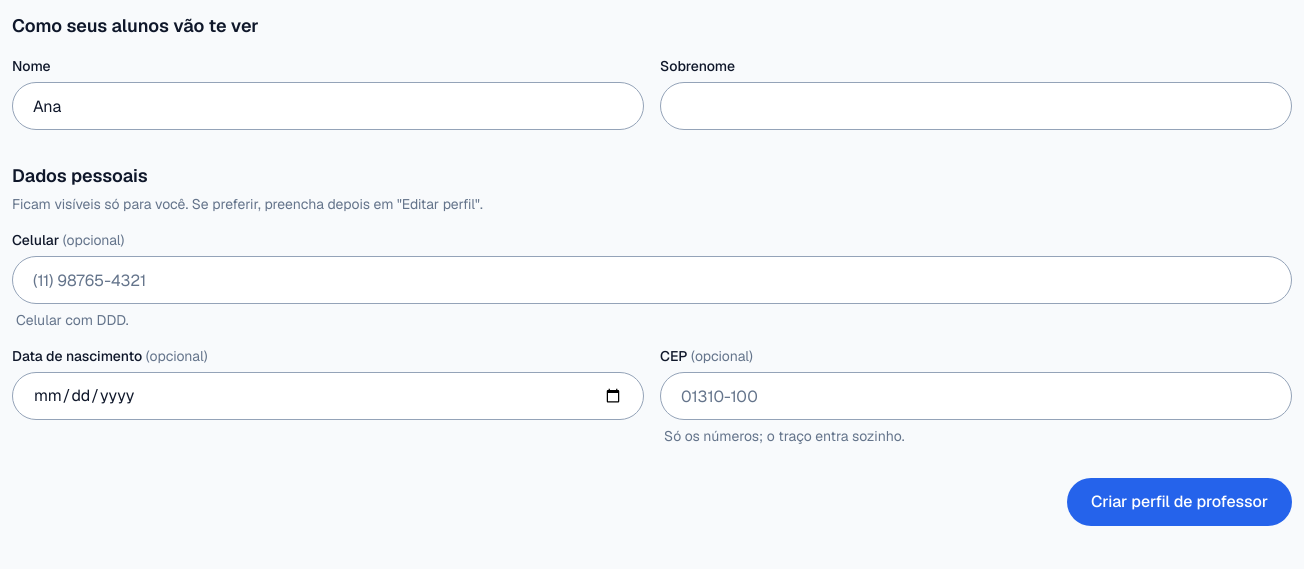
Test: ProfileForm › validates before submitting and focuses the first invalid field
Click the button "Criar perfil de professor" at (1180, 502), box [1067,478,1292,526]
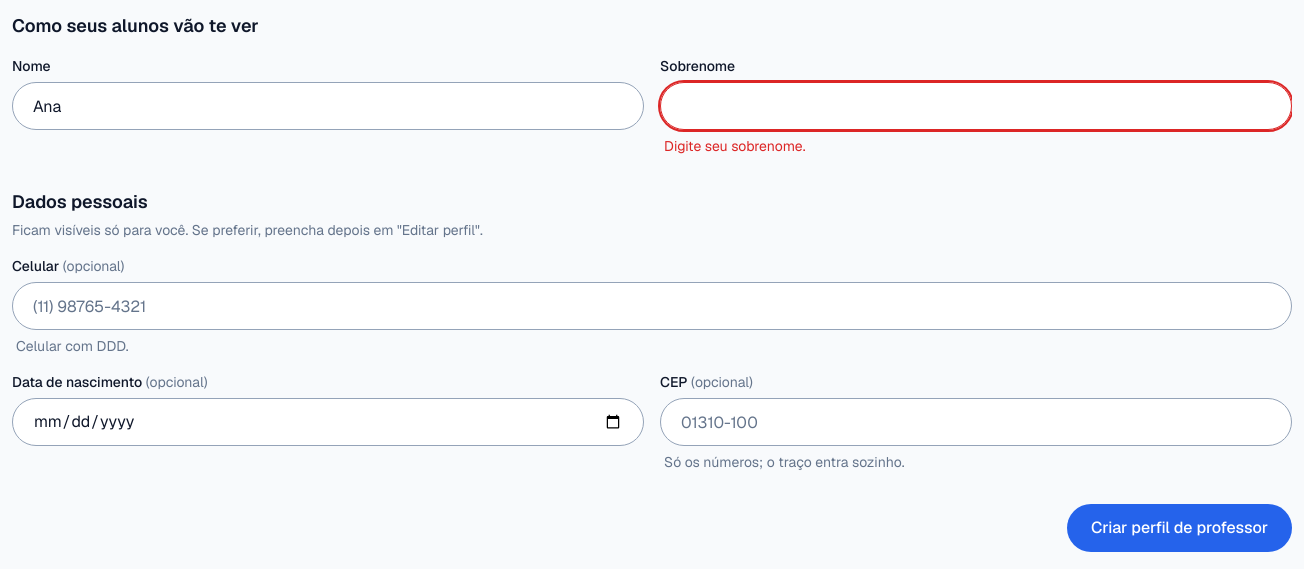
Check: the text "Digite seu sobrenome." is shown, box [664,137,806,155]
